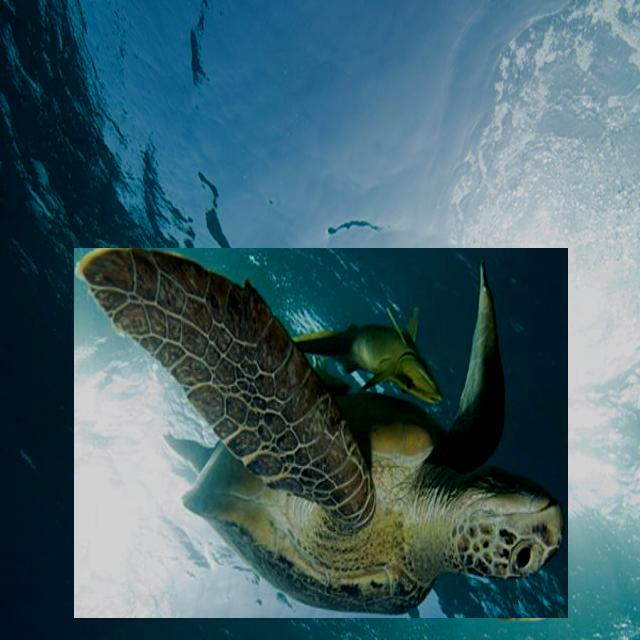Sea turtle: (74, 248, 568, 618)
